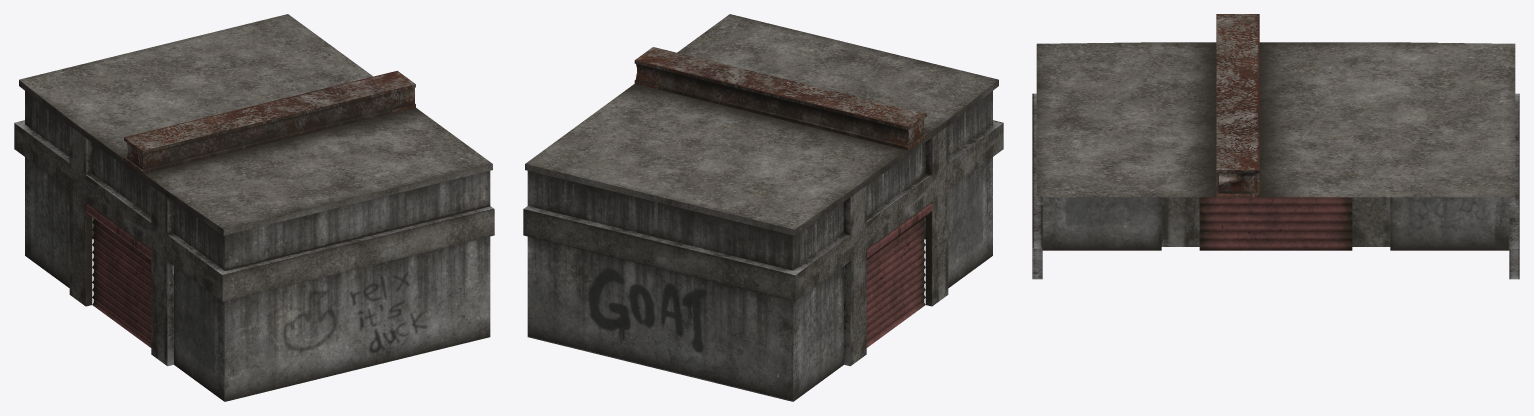
File: garage.glb
The picture shows the model from 3 angles, left to right: view 1: azimuth 30°, elevation 25°; view 2: azimuth 150°, elevation 25°; view 3: azimuth 270°, elevation 25°; orthographic projection. The views are drawn at different scales.
Parts seen in each view (by area): view 1: Cube.002; view 2: Cube.002; view 3: Cube.002.
Boxes of the visible parts, <box> form: Cube.002: <box>14,14,494,401</box>; Cube.002: <box>523,14,1003,401</box>; Cube.002: <box>1032,14,1519,279</box>.
Bounding box in the file's own units: 1.93 × 1.34 × 2.54.
1 material, 1 textured.
